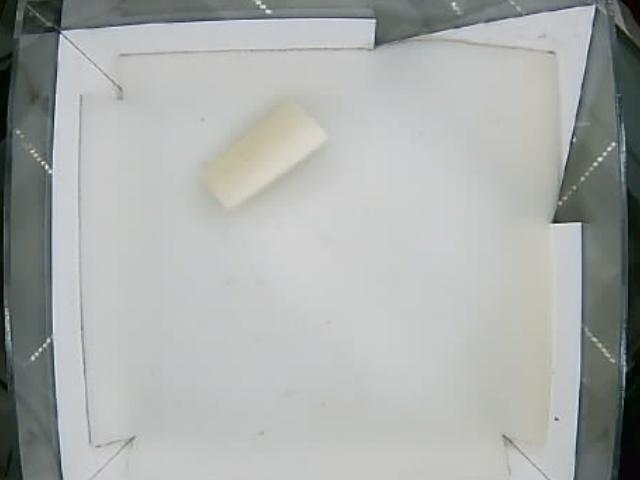Mooli: (199, 102, 326, 209)
